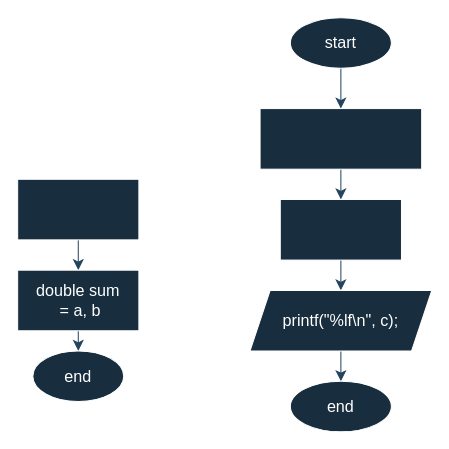
This 449x449 diagram has some shape labels left out. The shapes that lost their labels are listed below. From the top down, each one's centre as x and y in pixels, then its label:
the point at 340,138: double add( double a, double b);
the point at 78,209: double add(double a, double b)
the point at 340,229: double a = 2.7, b = 2.8, c; c = add(a , b)
